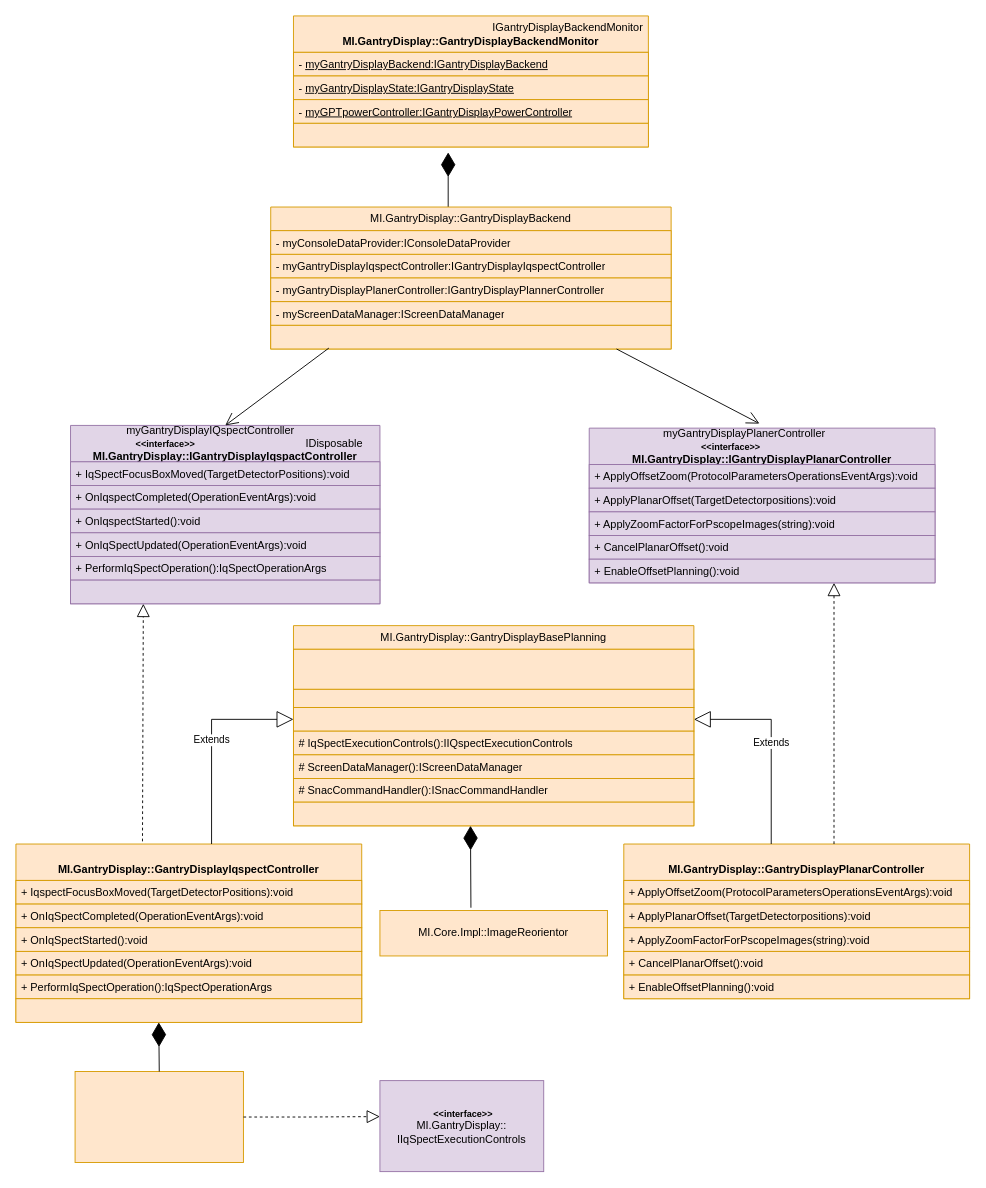
This 986x1188 diagram has some shape labels left out. Here are the shapes that lost their labels. From the top down, the centre of each, then its label:
At (x=470, y=134): "- mySnaCommandHandler:ISnaCommandHandler A".
At (x=470, y=336): "- mySnacCommandHelper:ISnacCommandHelper{readonly}".
At (x=225, y=591): "+ UpdateIqSpectParams(bool):void".
At (x=493, y=668): "# Initialize():void <<property>>".
At (x=493, y=698): "# ConsoleDataProvider(): IConsoleDataProvider".
At (x=493, y=719): "# ImageReorentor():ImageReorientor".
At (x=493, y=813): "# SnacEventListener():ISnacEventListener".
At (x=188, y=1010): "+ UpdateIqSpectParams(bool):void A".
At (x=158, y=1117): "MI.GantryDisplay:: IqSpectExecutionControls".
